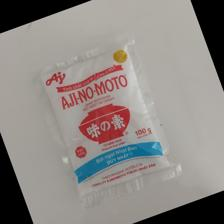Ajinomoto: (34, 40, 182, 204)
